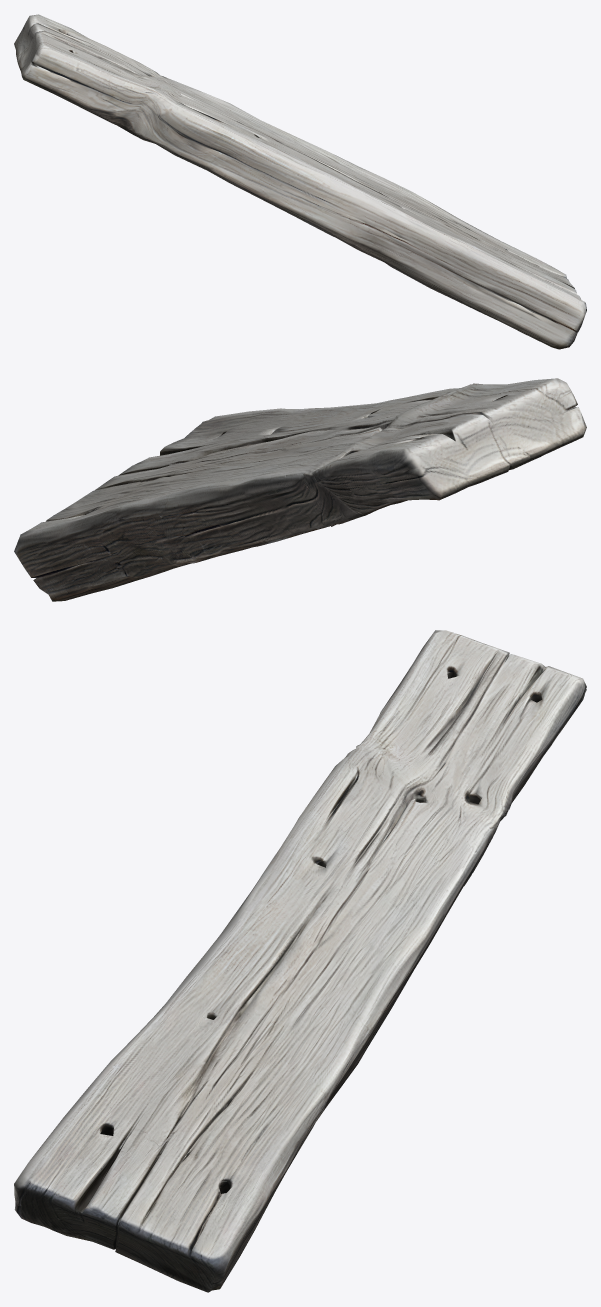
3 views of the same model, one above another, from view 1: azimuth 30°, elevation 25°; view 2: azimuth 150°, elevation 25°; view 3: azimuth 270°, elevation 25° (orthographic). The views are drawn at different scales.
Visible parts, largest first — view 1: tripo_node_74db8f01-2f8b-41b3-88f3-3887bc305005; view 2: tripo_node_74db8f01-2f8b-41b3-88f3-3887bc305005; view 3: tripo_node_74db8f01-2f8b-41b3-88f3-3887bc305005.
Part boxes in pixels (<box>): tripo_node_74db8f01-2f8b-41b3-88f3-3887bc305005: <box>14,14,586,349</box>; tripo_node_74db8f01-2f8b-41b3-88f3-3887bc305005: <box>14,378,586,601</box>; tripo_node_74db8f01-2f8b-41b3-88f3-3887bc305005: <box>14,630,586,1292</box>.
Size of the model in its own units: 0.9822 by 0.6308 by 0.821.
1 material, 1 textured.
